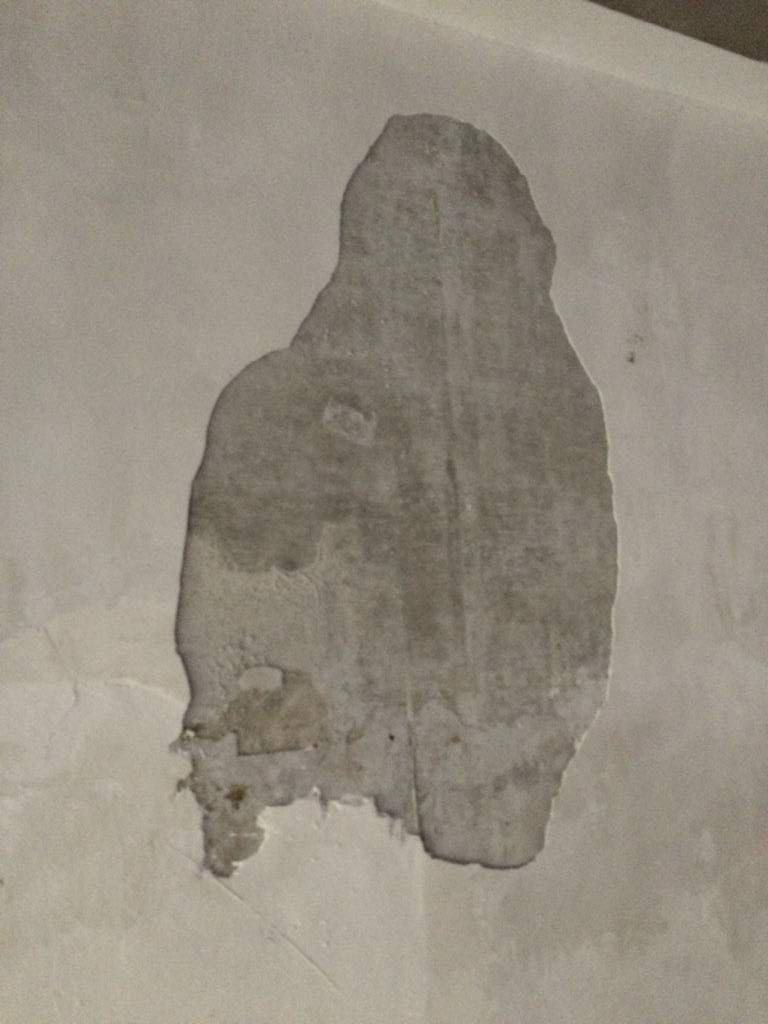Spalling: (171, 112, 622, 877)
